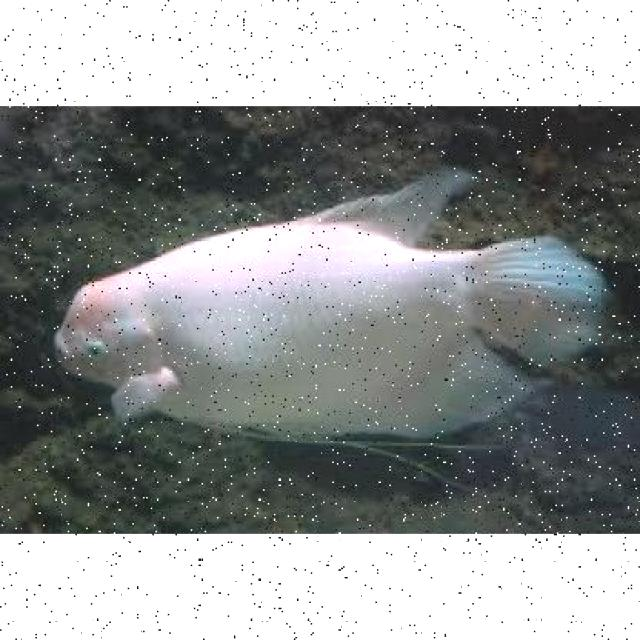gurame: (59, 202, 564, 447)
